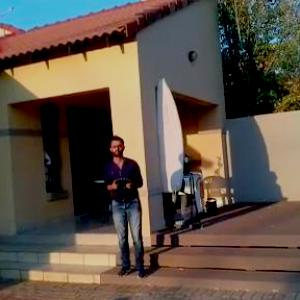follow: (102, 132, 151, 282)
